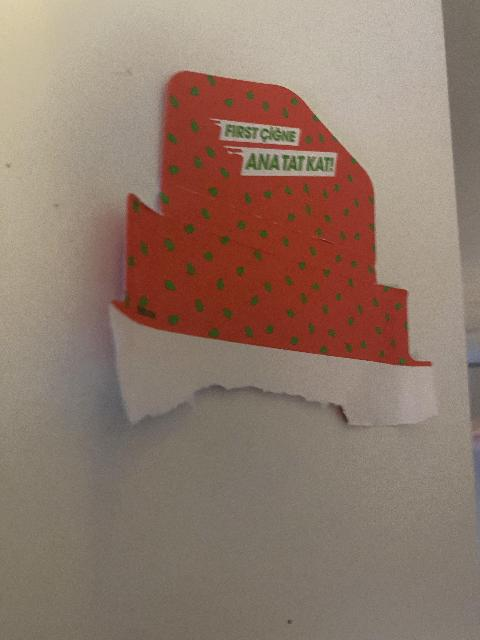Kagit: (97, 73, 454, 433)
